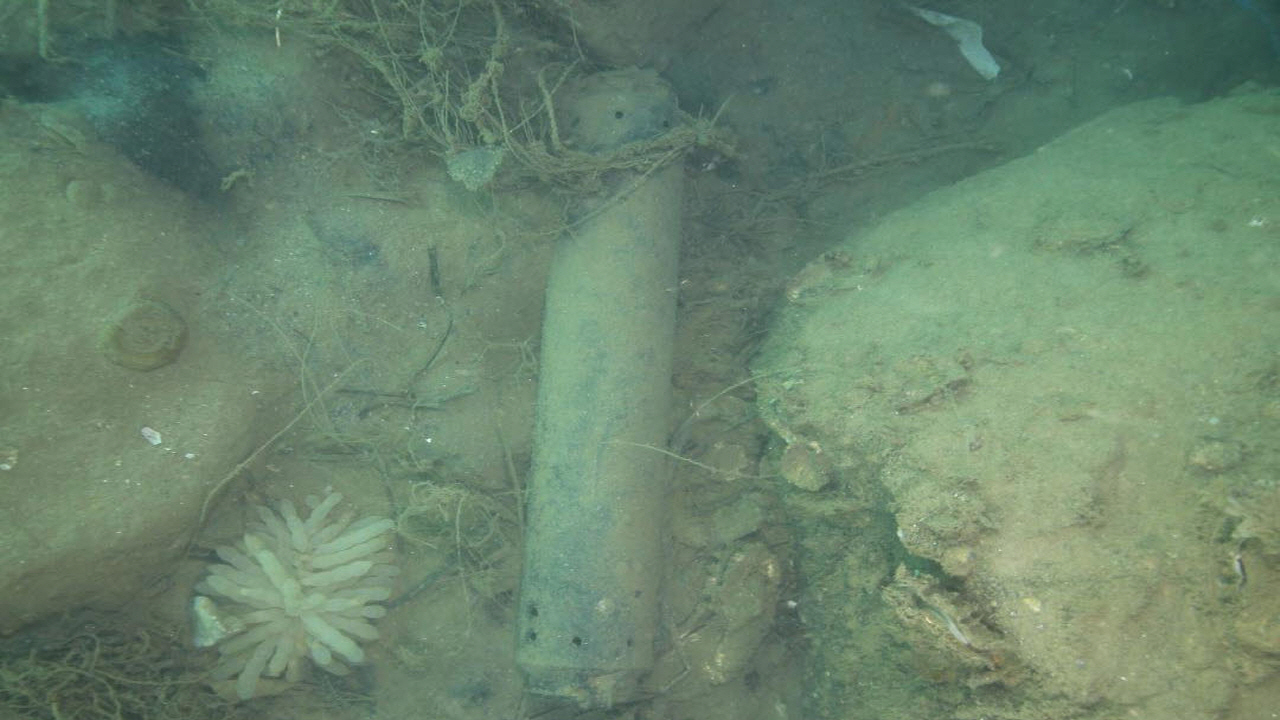eel fish trap: (512, 69, 681, 702)
